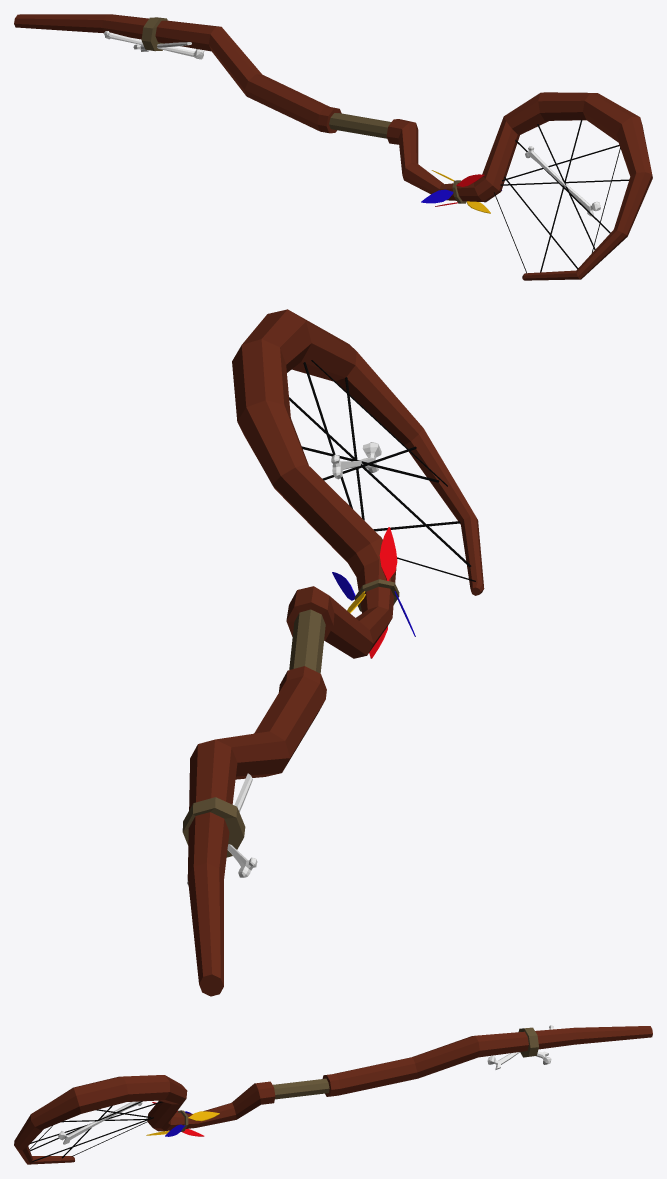
The model's file is goblinShamanStaff.fbx.
3 views of the same model, one above another, from view 1: azimuth 30°, elevation 25°; view 2: azimuth 150°, elevation 25°; view 3: azimuth 270°, elevation 25° (orthographic). The views are drawn at different scales.
Visible parts, largest first — view 1: woodenStaff; view 2: woodenStaff; view 3: woodenStaff.
Boxes of the visible parts, bbox=[...] form: woodenStaff: bbox=[14, 14, 652, 280]; woodenStaff: bbox=[182, 309, 484, 996]; woodenStaff: bbox=[14, 1025, 652, 1164].
Size of the model in its own units: 51.87 by 23.36 by 107.
